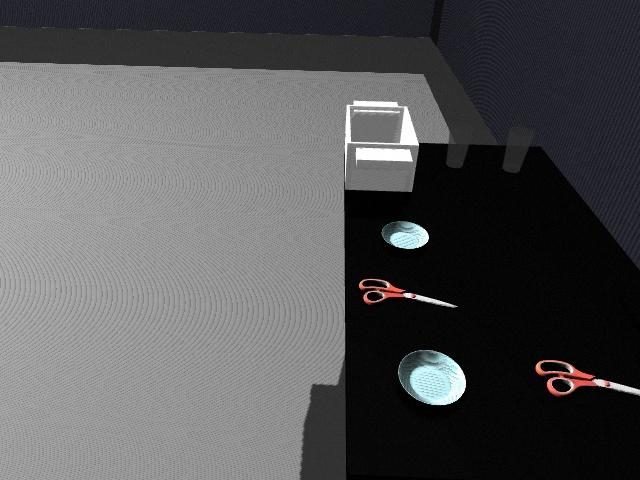cup: (502, 126, 534, 174), (445, 127, 469, 170)
plate: (396, 349, 469, 406), (380, 219, 431, 250), (389, 221, 421, 235)
scissors: (537, 359, 640, 402), (360, 277, 459, 309)
